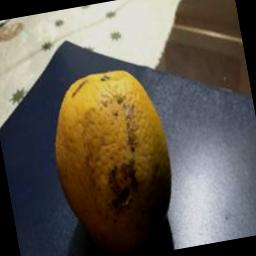Orange Unripe: (39, 57, 198, 256)
